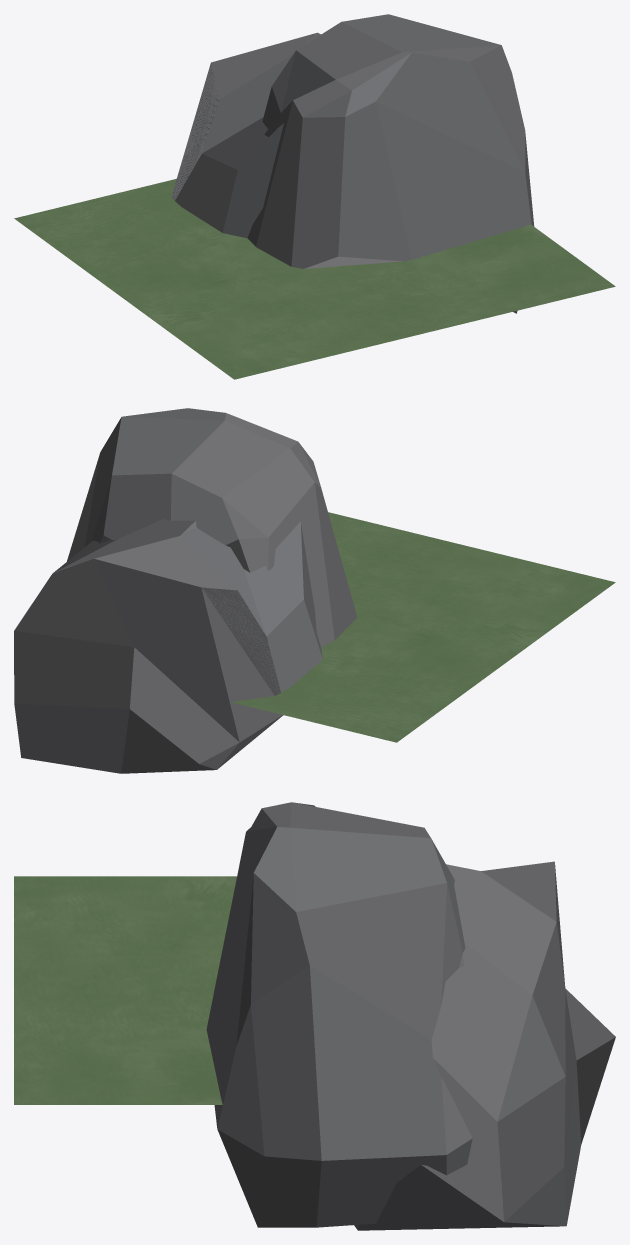
Rendered from Cliff_Corner_Inner.glb.
3 renders of one model, top to bottom at view 1: azimuth 30°, elevation 25°; view 2: azimuth 150°, elevation 25°; view 3: azimuth 270°, elevation 25°, orthographic. The views are drawn at different scales.
Visible parts, largest first — view 1: Cliffs_Corner_Inner-col; view 2: Cliffs_Corner_Inner-col; view 3: Cliffs_Corner_Inner-col.
Boxes of the visible parts, x1,y1,x2,y2 form: Cliffs_Corner_Inner-col: [14, 14, 615, 379]; Cliffs_Corner_Inner-col: [14, 408, 615, 773]; Cliffs_Corner_Inner-col: [14, 802, 615, 1230].
Bounding box in the file's own units: 1.11 × 0.7067 × 1.11.
2 materials, 1 textured.
